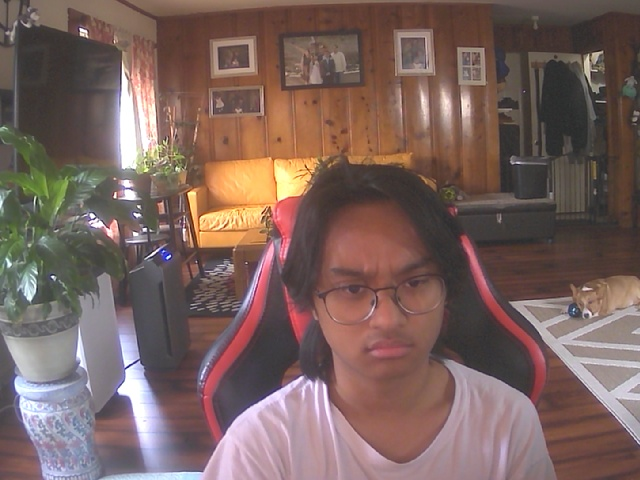anger: (305, 177, 455, 384)
